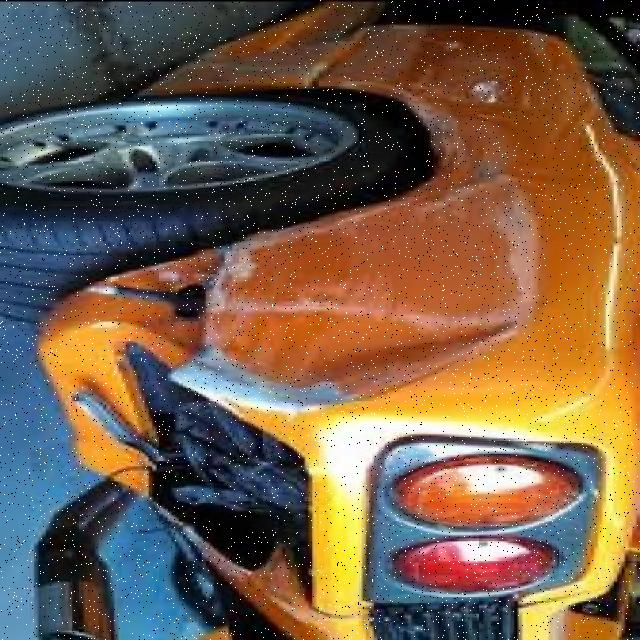damage: (31, 45, 541, 629)
